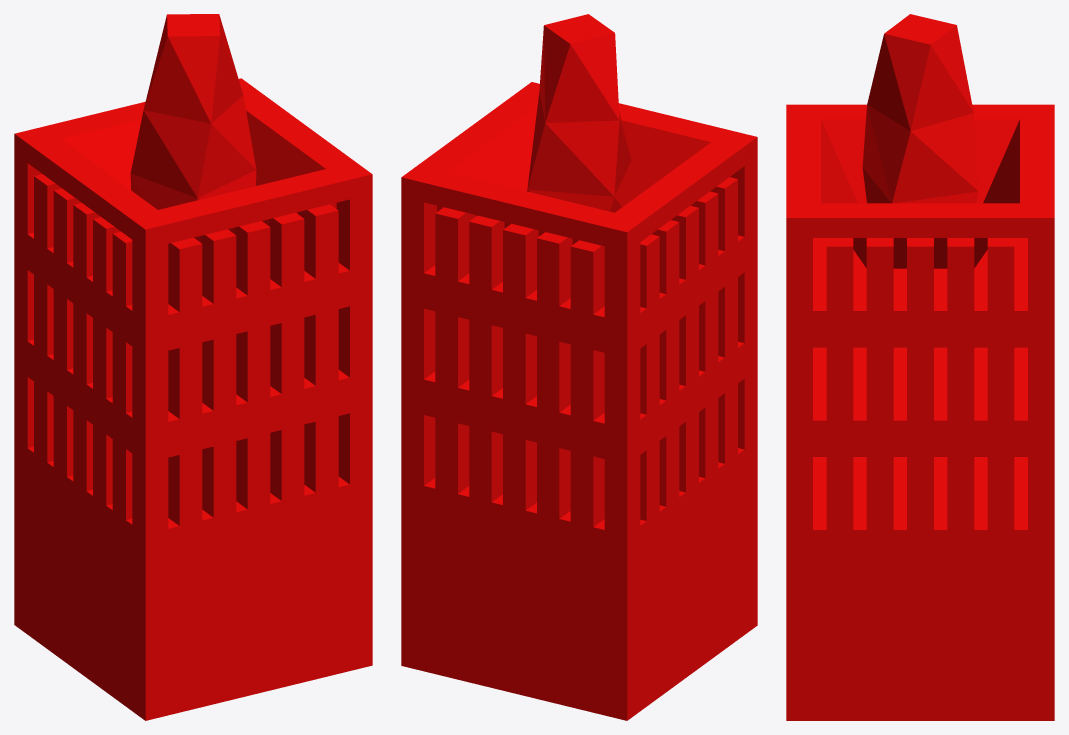
File: statua-3.dae
3 views of the same model, side by side, from view 1: azimuth 30°, elevation 25°; view 2: azimuth 150°, elevation 25°; view 3: azimuth 270°, elevation 25° (orthographic). The views are drawn at different scales.
Visible parts, largest first — view 1: Cube.001; view 2: Cube.001; view 3: Cube.001.
Boxes of the visible parts, x1,y1,x2,y2 form: Cube.001: (14,14,372,720); Cube.001: (401,14,757,720); Cube.001: (786,14,1054,720).
Bounding box in the file's own units: 2 × 2 × 5.22.
